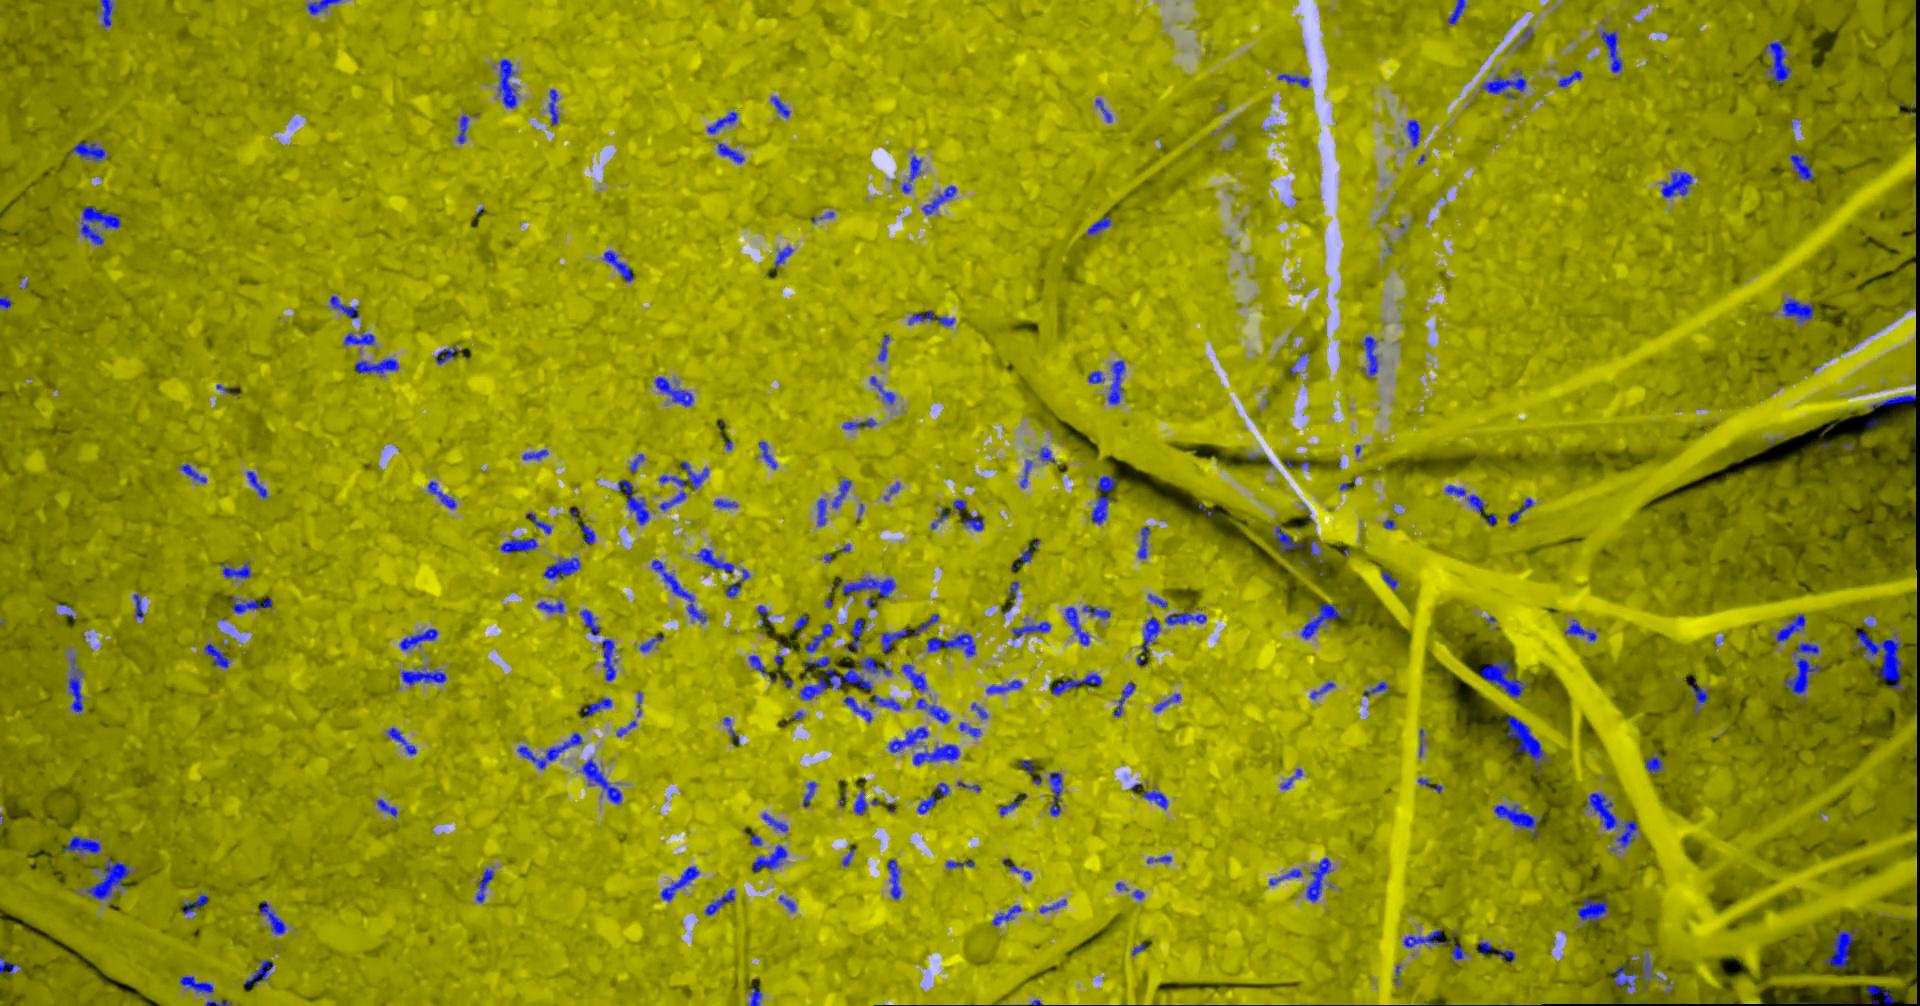ant: (651, 559, 706, 622), (799, 655, 872, 700), (1583, 793, 1637, 847), (516, 732, 582, 768), (1506, 715, 1545, 774), (85, 855, 131, 899), (1481, 659, 1530, 697), (1300, 602, 1350, 639), (582, 758, 622, 803), (80, 206, 119, 244), (658, 461, 709, 490), (830, 577, 895, 600), (617, 479, 649, 525), (1493, 804, 1538, 836), (1783, 657, 1818, 695), (1091, 475, 1117, 525), (660, 866, 698, 901), (1823, 927, 1857, 967), (654, 376, 693, 406), (1481, 71, 1525, 98), (1763, 41, 1790, 83), (926, 633, 975, 655), (1051, 673, 1101, 695), (1305, 857, 1330, 901), (1064, 606, 1090, 645), (888, 727, 927, 752), (921, 185, 956, 213), (750, 845, 787, 871), (696, 547, 734, 573), (912, 744, 959, 765), (497, 58, 516, 108), (602, 250, 632, 281), (1600, 30, 1622, 72), (259, 901, 286, 934), (399, 627, 437, 650), (804, 622, 833, 652), (1775, 614, 1804, 641), (387, 727, 417, 754), (67, 658, 83, 711), (703, 888, 734, 915), (1660, 171, 1691, 197), (1576, 898, 1608, 923), (1402, 929, 1444, 948), (1112, 682, 1135, 716), (916, 699, 950, 721), (427, 481, 456, 508), (1274, 526, 1303, 553), (1782, 298, 1813, 323), (400, 668, 446, 685), (542, 558, 579, 578), (1789, 152, 1815, 182), (843, 696, 872, 721), (243, 959, 272, 984), (1107, 359, 1124, 404), (902, 155, 921, 193), (1140, 617, 1161, 653), (869, 376, 895, 403), (725, 568, 749, 597), (855, 655, 891, 674), (63, 835, 100, 854), (231, 596, 270, 614), (706, 111, 737, 133), (329, 295, 359, 318), (908, 310, 954, 325), (601, 639, 617, 681), (1564, 619, 1596, 640), (1507, 497, 1533, 523), (902, 663, 927, 690), (1689, 680, 1708, 715), (354, 358, 397, 373), (853, 789, 877, 815), (1870, 394, 1916, 408), (72, 142, 108, 160), (844, 619, 863, 652), (881, 627, 907, 652), (203, 643, 229, 667), (475, 868, 493, 902), (579, 697, 611, 716), (1048, 772, 1062, 815), (1011, 621, 1050, 636), (992, 904, 1021, 925), (1865, 984, 1895, 1005), (1269, 868, 1302, 885), (179, 976, 212, 993), (1164, 610, 1206, 624), (1611, 965, 1636, 989), (524, 512, 551, 533), (246, 470, 267, 498), (500, 537, 537, 553), (830, 479, 850, 508), (913, 614, 938, 635), (579, 608, 599, 635), (1363, 337, 1377, 375), (888, 859, 900, 899), (985, 680, 1022, 694), (717, 144, 744, 163), (179, 464, 206, 483), (1153, 694, 1180, 713), (870, 694, 900, 710), (306, 0, 342, 14), (758, 441, 776, 469), (659, 492, 684, 511), (1142, 790, 1167, 809), (182, 894, 207, 913), (220, 563, 250, 578), (916, 793, 938, 813), (1557, 69, 1582, 86), (1309, 681, 1335, 699), (762, 813, 787, 831), (343, 332, 375, 345), (723, 716, 739, 743), (1280, 768, 1302, 789), (1087, 215, 1110, 234), (1448, 0, 1465, 24), (1277, 72, 1308, 86), (1363, 681, 1389, 696), (1137, 526, 1149, 558), (639, 635, 663, 652), (842, 418, 876, 429), (1018, 459, 1032, 486), (1082, 605, 1110, 619), (770, 97, 789, 117), (436, 345, 456, 365), (1465, 494, 1486, 513), (748, 655, 768, 674), (1417, 777, 1443, 793), (775, 245, 792, 267), (930, 507, 947, 528), (1644, 752, 1662, 774), (1010, 862, 1031, 880), (0, 956, 22, 974), (1095, 99, 1111, 122), (999, 799, 1022, 815), (1039, 899, 1065, 913), (961, 513, 983, 530), (376, 799, 397, 815), (456, 116, 469, 144), (803, 781, 817, 807), (1406, 119, 1418, 146), (536, 600, 563, 612), (579, 523, 596, 544), (1641, 956, 1651, 988), (549, 89, 557, 124), (1382, 569, 1397, 589), (616, 720, 636, 735), (1794, 641, 1818, 654), (877, 334, 889, 361), (959, 721, 980, 735), (100, 0, 112, 25), (1147, 593, 1167, 607), (521, 448, 547, 459), (629, 453, 644, 471), (945, 859, 974, 868), (778, 895, 795, 911), (817, 498, 825, 526), (133, 593, 143, 617), (1495, 949, 1514, 962), (748, 986, 761, 1005), (792, 614, 808, 629), (971, 702, 987, 718), (1087, 370, 1103, 384), (1444, 485, 1465, 495), (712, 498, 737, 507), (1039, 447, 1054, 461), (1018, 760, 1034, 774), (1017, 547, 1031, 561), (935, 782, 949, 796), (1145, 855, 1171, 862), (1451, 944, 1464, 959), (952, 499, 965, 513), (1481, 513, 1496, 525), (1476, 941, 1491, 953), (0, 295, 11, 309)
